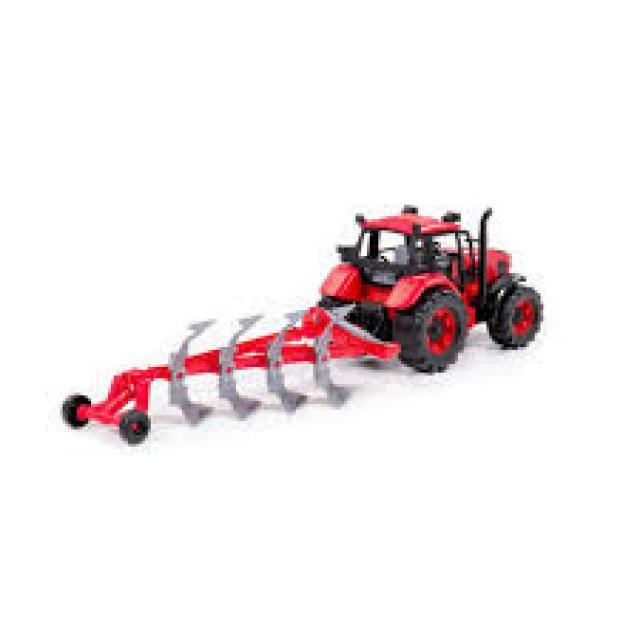Tratores - v5 YOLO V8L 2024-11-13: (321, 208, 548, 378)
